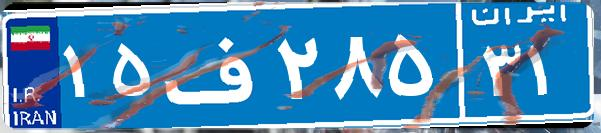1: (57, 26, 110, 107), (525, 38, 570, 115)
2: (273, 28, 330, 110)
3: (475, 38, 525, 113)
5: (385, 28, 445, 110), (110, 28, 158, 105)
8: (330, 28, 385, 110)
ف: (158, 15, 273, 115)
